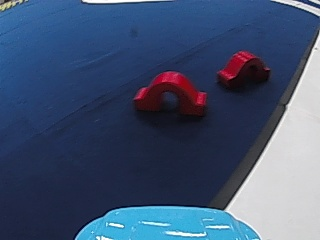bridge: (129, 67, 212, 117), (214, 47, 271, 90)
